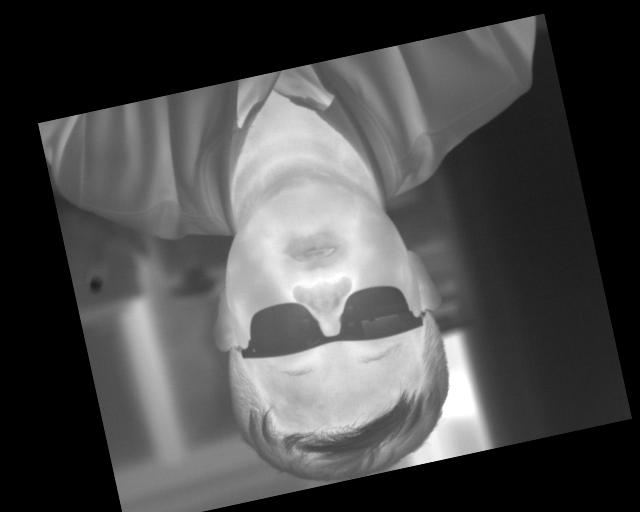face: (185, 150, 477, 499)
